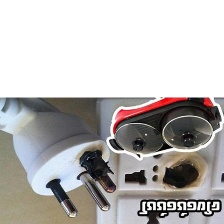three_eye_plug: (92, 94, 224, 224), (6, 102, 118, 220)
